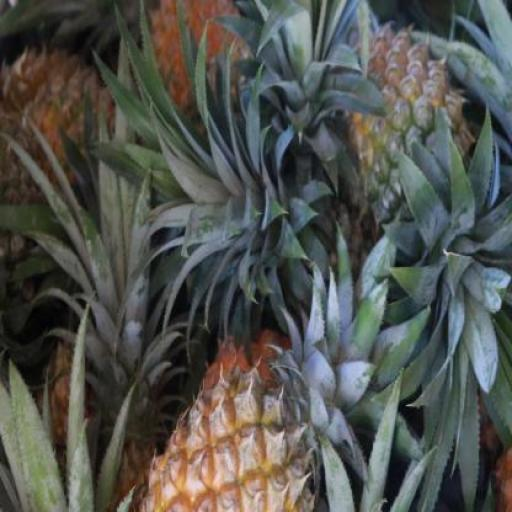------------------------------: (338, 21, 477, 231)
Pineapple - v8 v1: (135, 357, 318, 512)
